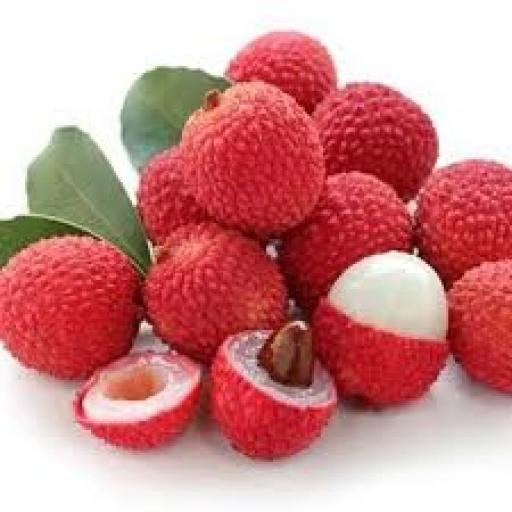lychee: (180, 82, 325, 236), (315, 251, 448, 405), (0, 237, 141, 377), (146, 224, 286, 361), (280, 173, 411, 311), (212, 324, 336, 459), (315, 82, 439, 200), (73, 353, 200, 450), (417, 160, 511, 286), (228, 32, 336, 111), (449, 260, 511, 393), (137, 148, 207, 245)
